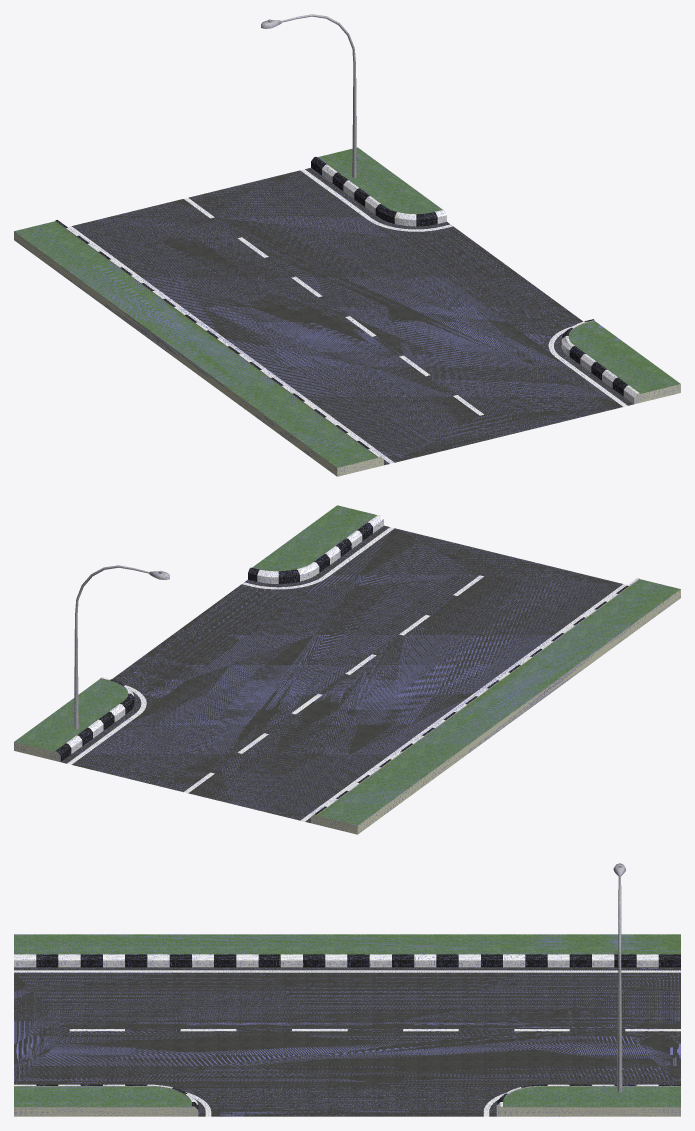
3 views of the same model, one above another, from view 1: azimuth 30°, elevation 25°; view 2: azimuth 150°, elevation 25°; view 3: azimuth 270°, elevation 25° (orthographic). The views are drawn at different scales.
Visible parts, largest first — view 1: SketchUp (×7), Light_Street_Curved_18_; view 2: SketchUp (×10), Light_Street_Curved_18_; view 3: SketchUp (×8), Light_Street_Curved_18_.
Part boxes in pixels (bbox=[...]): SketchUp (×7): bbox=[14, 147, 680, 476]; Light_Street_Curved_18_: bbox=[281, 14, 356, 177]; SketchUp (×10): bbox=[14, 505, 680, 834]; Light_Street_Curved_18_: bbox=[74, 565, 149, 728]; SketchUp (×8): bbox=[14, 934, 680, 1116]; Light_Street_Curved_18_: bbox=[617, 874, 622, 1091].
Bounding box in the file's own units: 442 × 720 × 229.
8 materials, 2 textured.
